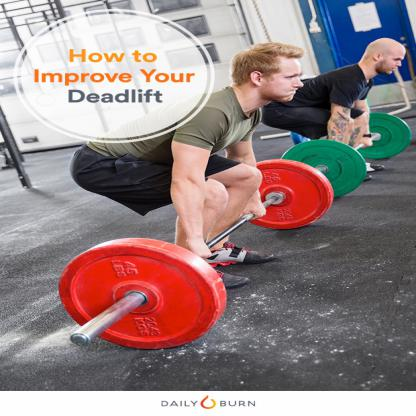Barbell: (46, 235, 238, 356)
